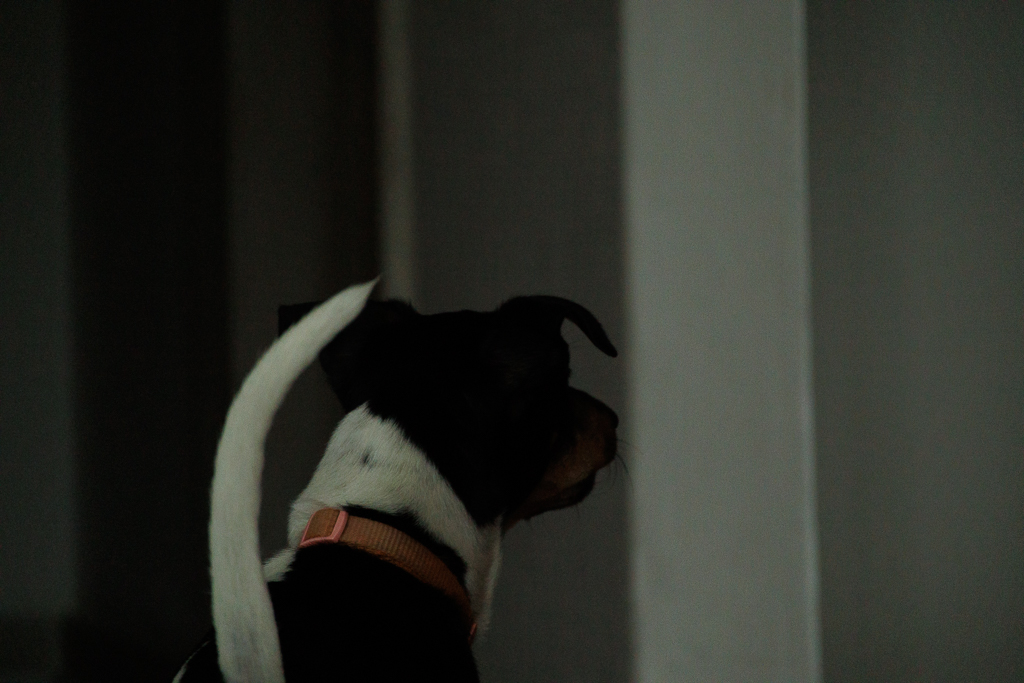Dog: (165, 260, 660, 683)
